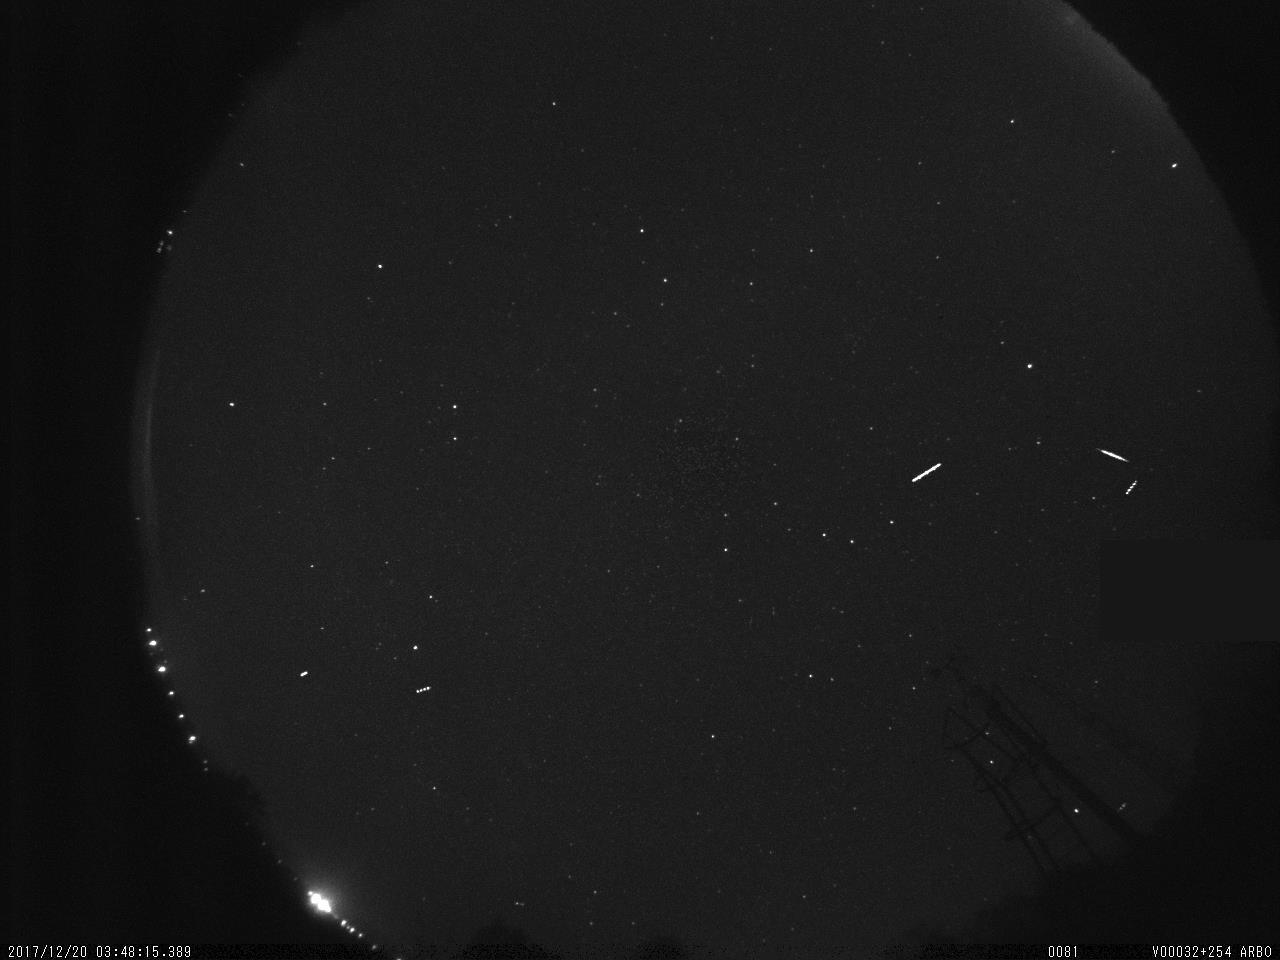meteor: (1091, 437, 1136, 468)
satelite: (904, 458, 949, 487), (1118, 476, 1146, 498)
